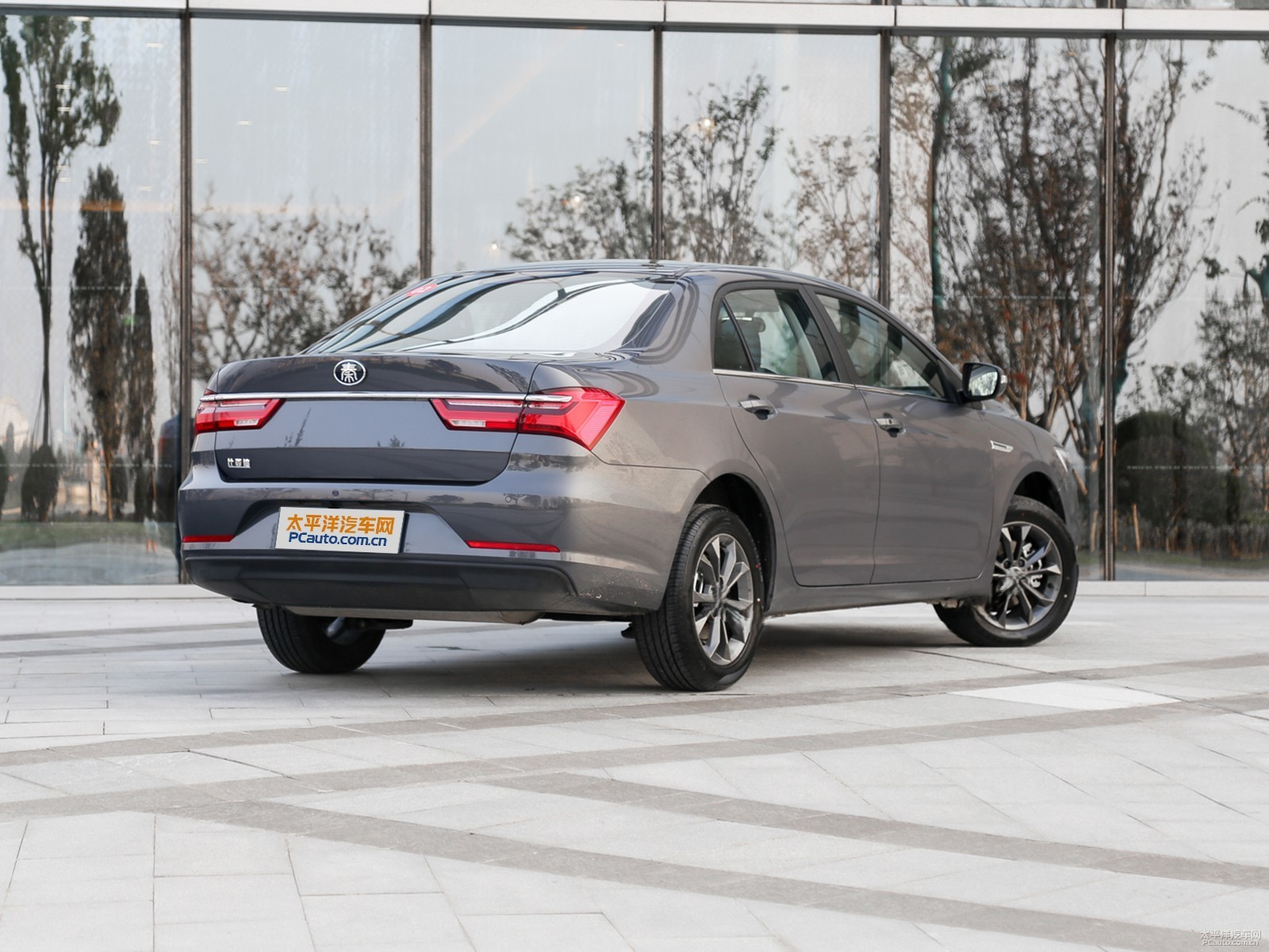BYD Qin: (334, 360, 365, 386)
